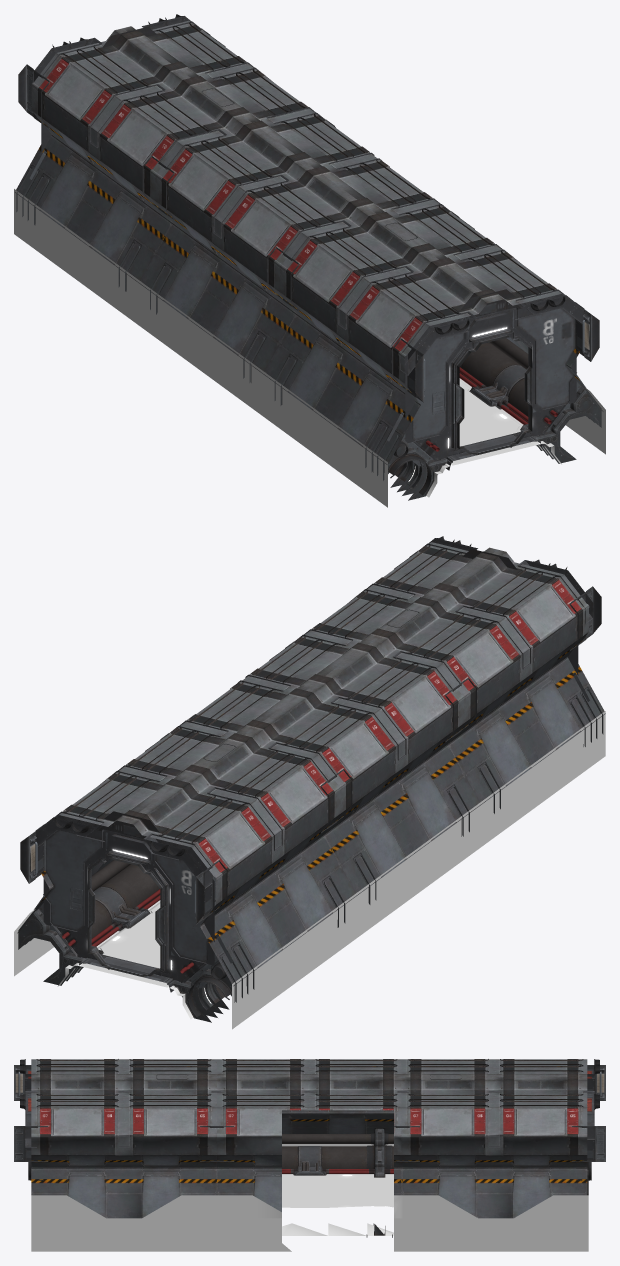
Rendered from Nostos_Hall.fbx.
3 views of the same model, one above another, from view 1: azimuth 30°, elevation 25°; view 2: azimuth 150°, elevation 25°; view 3: azimuth 270°, elevation 25° (orthographic). The views are drawn at different scales.
Visible parts, largest first — view 1: Nostos_Hall; view 2: Nostos_Hall; view 3: Nostos_Hall.
Boxes of the visible parts, box(x1,y1,x2,y2) form: Nostos_Hall: box(14, 14, 605, 507); Nostos_Hall: box(14, 536, 605, 1029); Nostos_Hall: box(14, 1059, 605, 1251).
Size of the model in its own units: 5.06 by 4.04 by 15.85.
